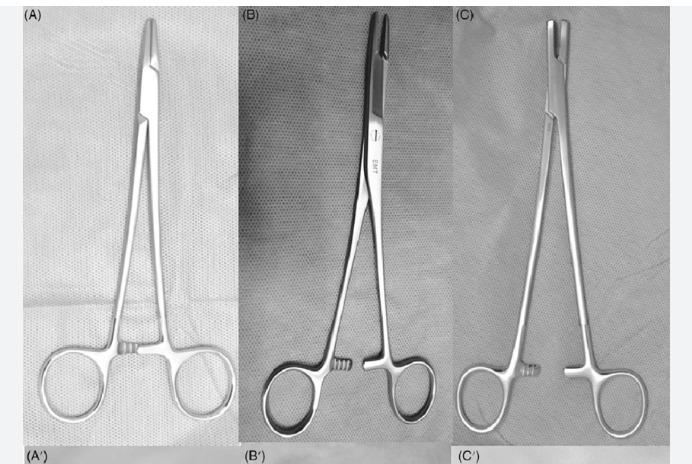Needle Holder: (452, 11, 652, 439), (35, 16, 238, 421), (259, 9, 434, 439)
